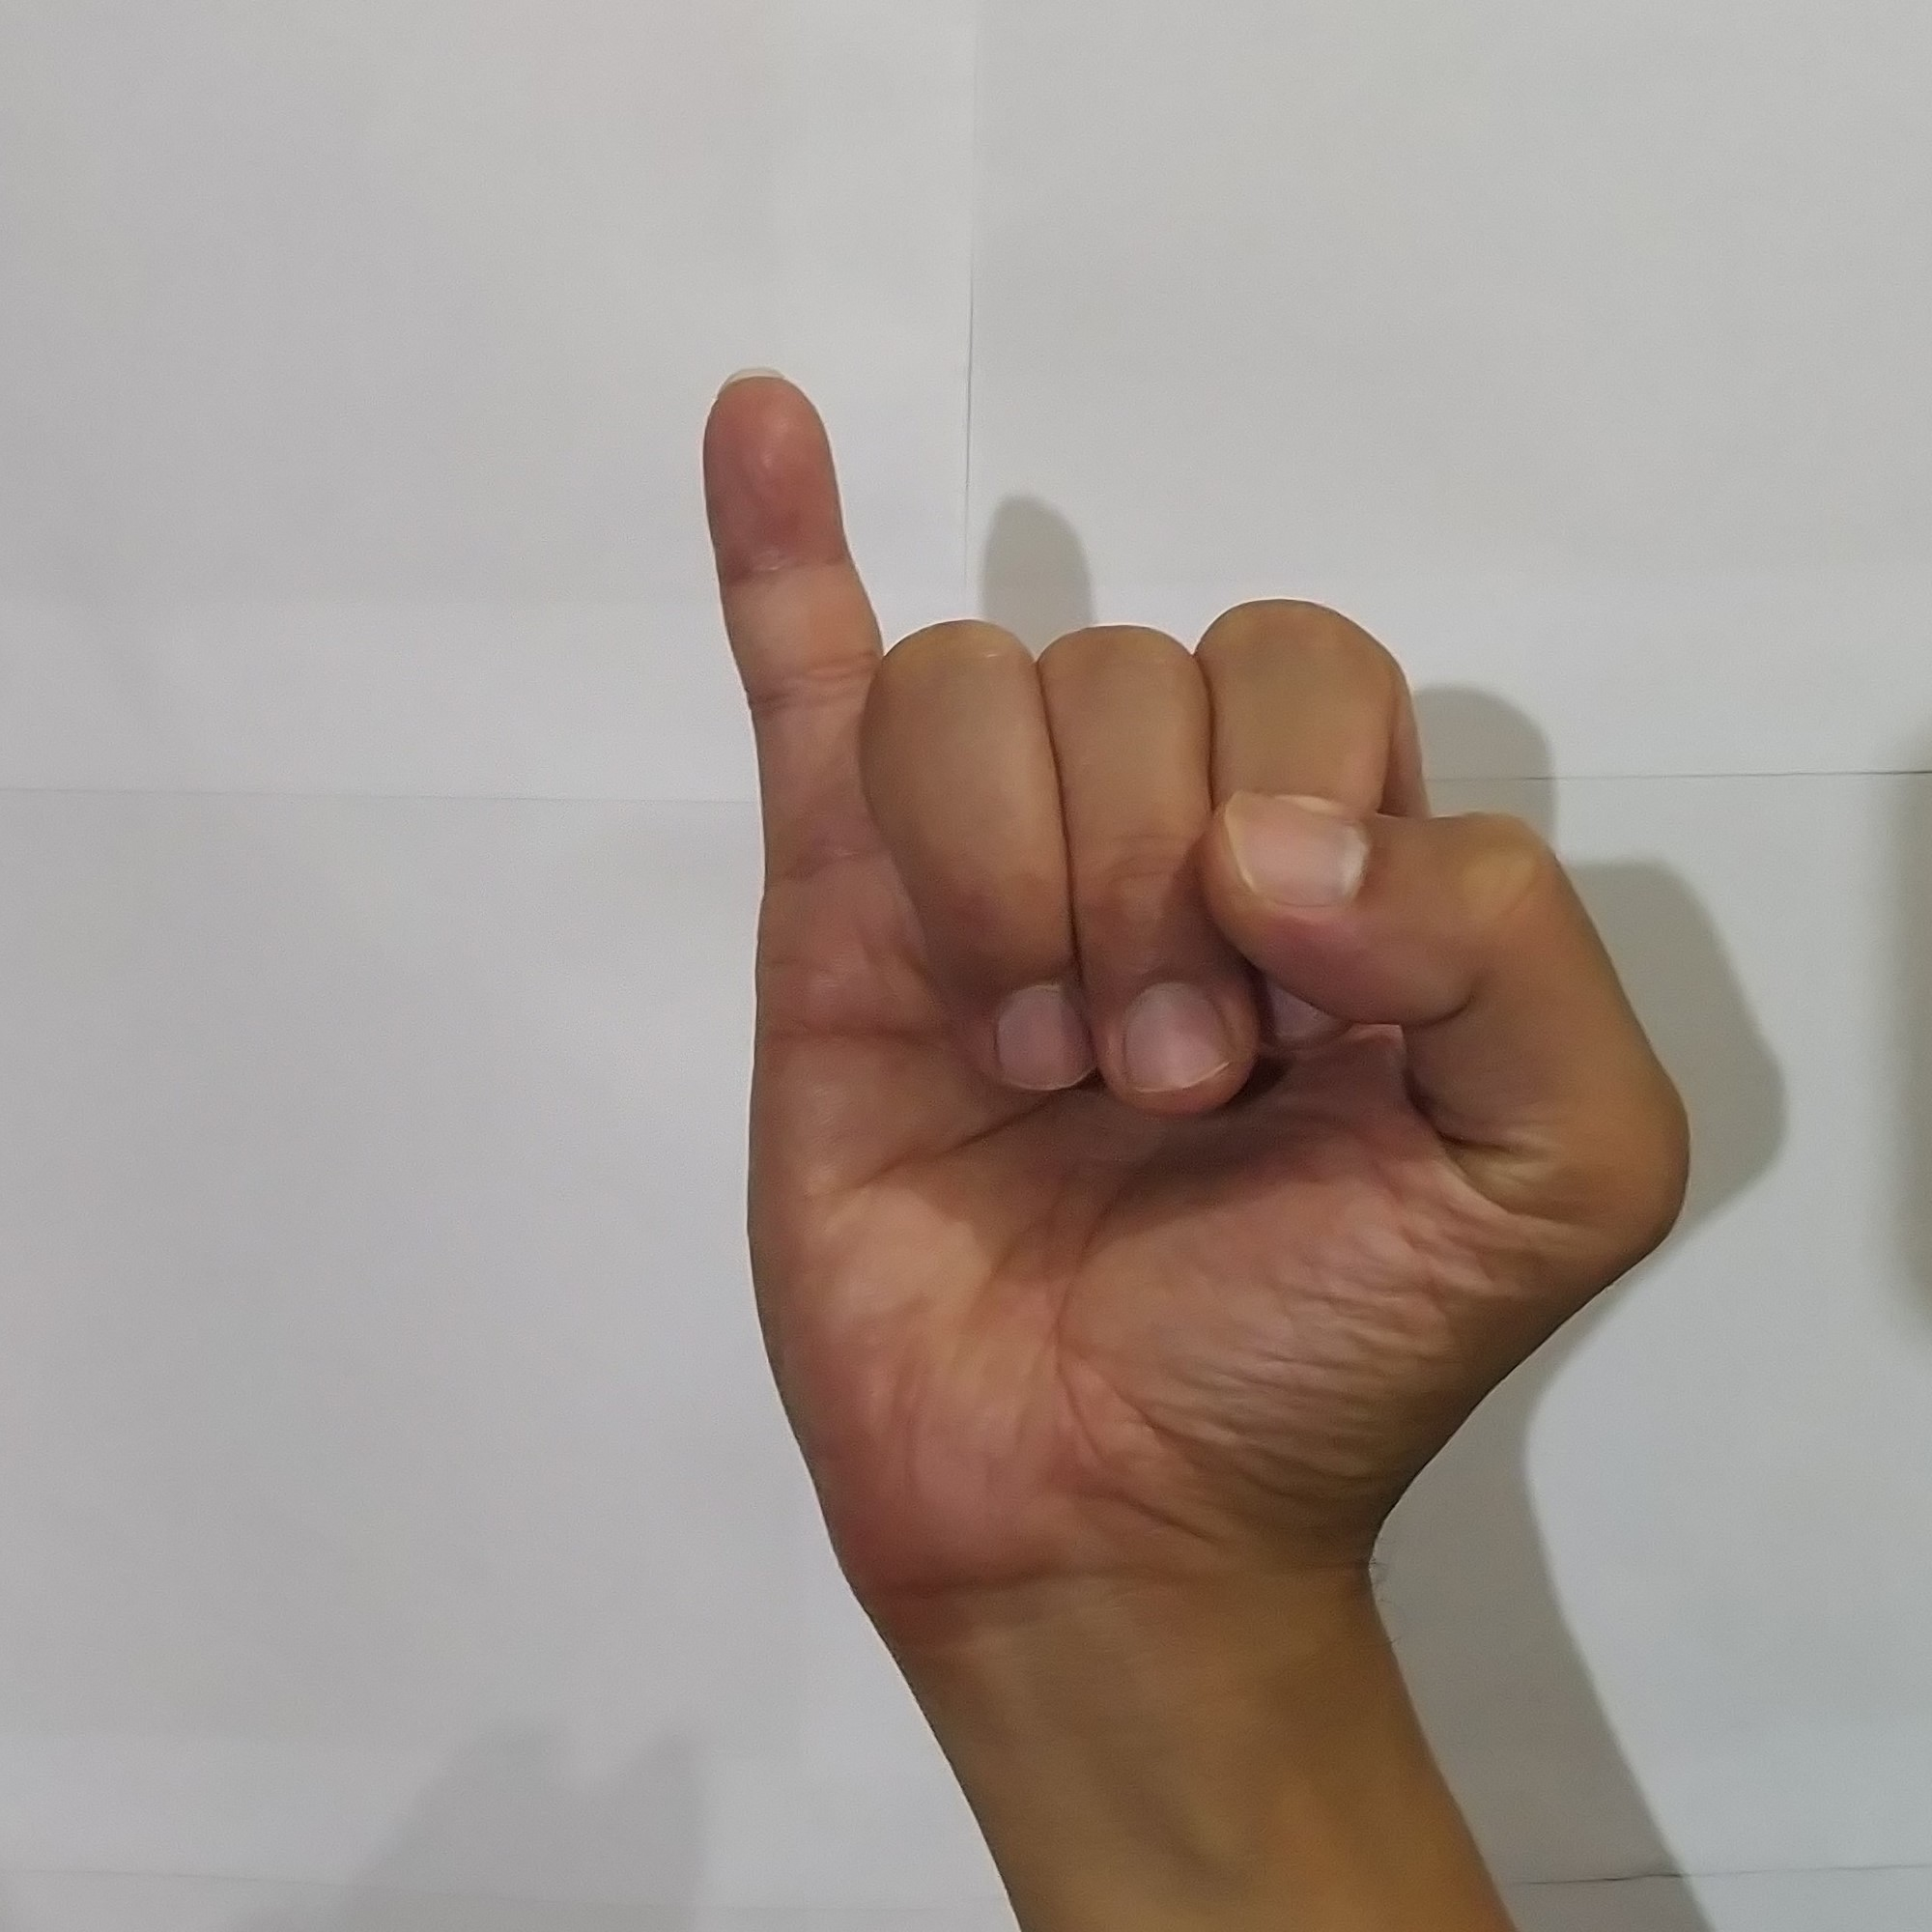I: (671, 349, 1713, 1539)
